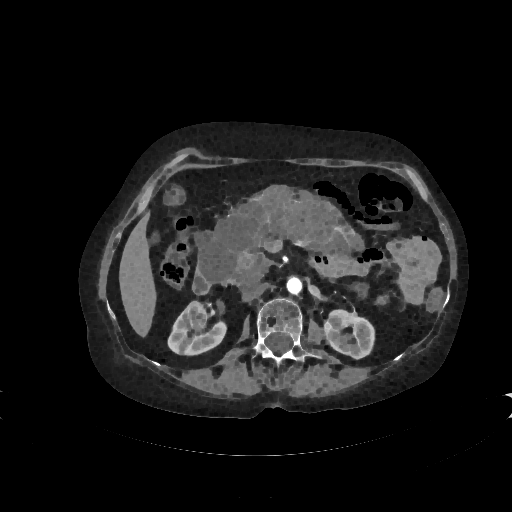Lesion: (321, 319, 337, 336)
